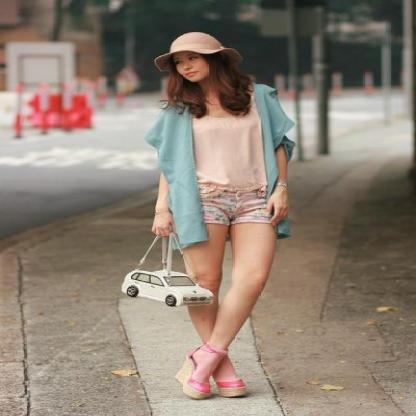bag: (127, 242, 212, 306)
hat: (166, 32, 229, 53)
jacket: (146, 83, 300, 246)
shirt: (193, 109, 286, 191)
shoe: (175, 341, 245, 400)
shorts: (196, 180, 276, 226)
